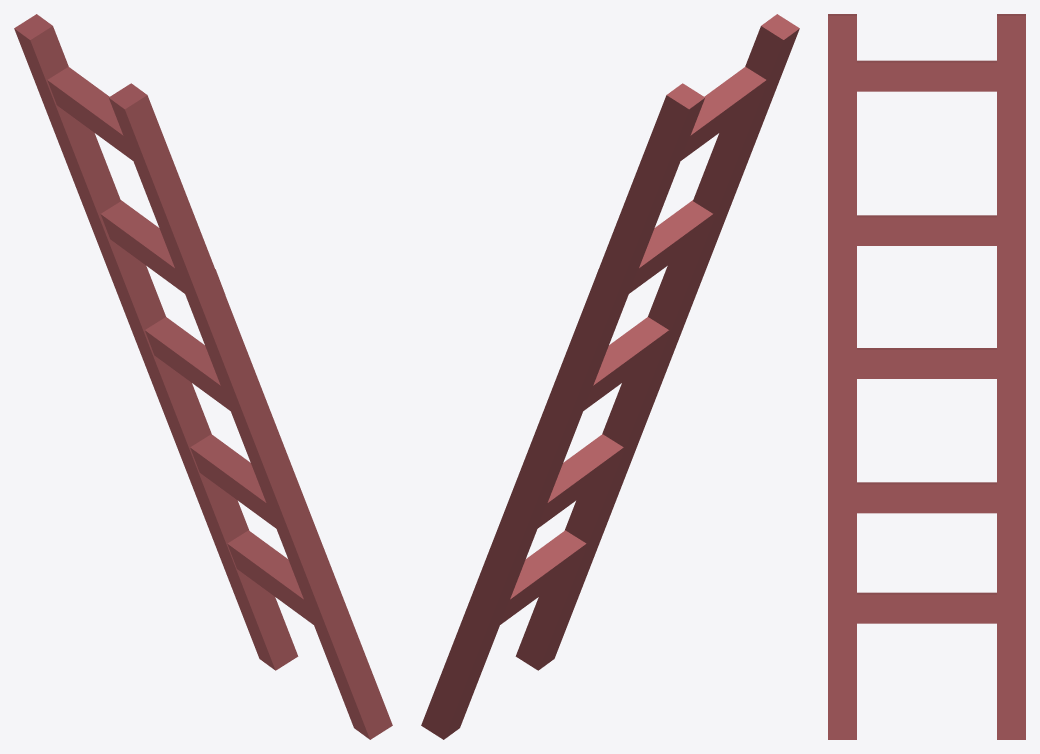
Rendered from hasigo.fbx.
The picture shows the model from 3 angles, left to right: view 1: azimuth 30°, elevation 25°; view 2: azimuth 150°, elevation 25°; view 3: azimuth 270°, elevation 25°; orthographic projection. The views are drawn at different scales.
Parts seen in each view (by area): view 1: Cube; view 2: Cube; view 3: Cube.
Boxes of the visible parts, x1=… form: Cube: x1=14, y1=14, x2=392, y2=739; Cube: x1=421, y1=14, x2=799, y2=739; Cube: x1=828, y1=14, x2=1025, y2=739.
Bounding box in the file's own units: 607 × 1512 × 434.
